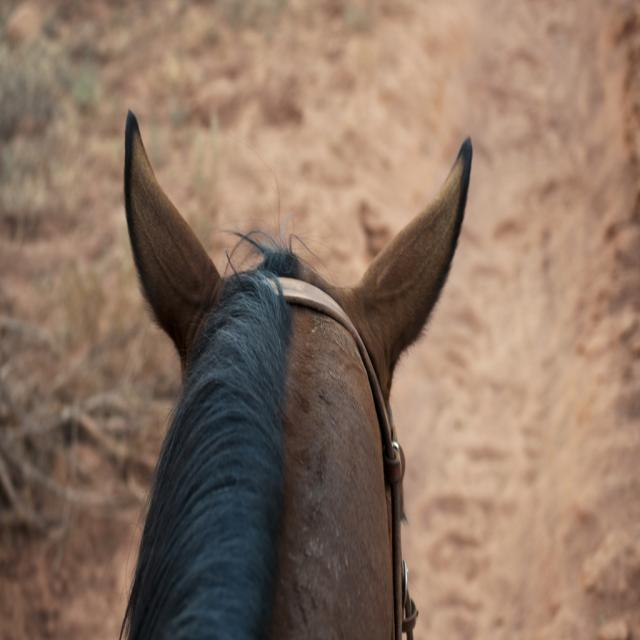Horse: (119, 109, 472, 640)
